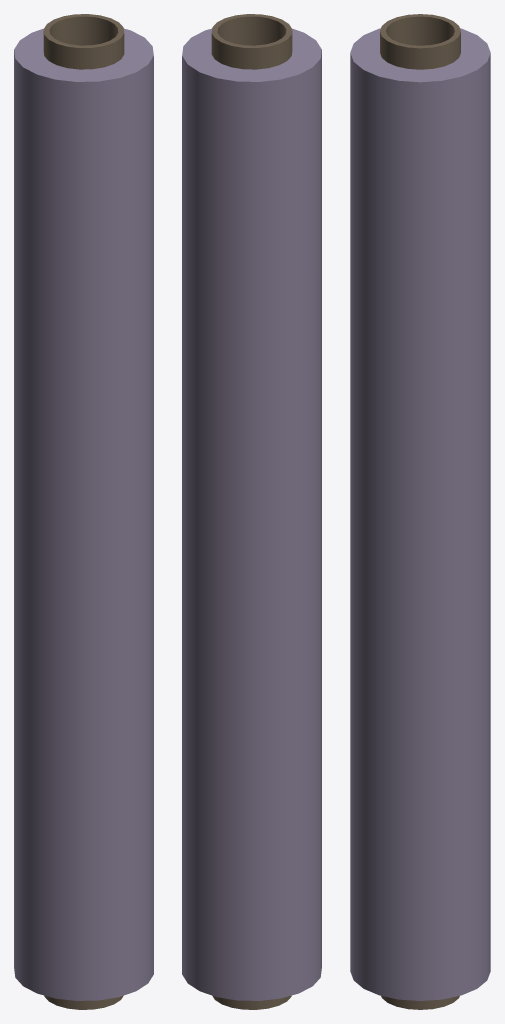
The model's file is RolPaars.fbx.
The picture shows the model from 3 angles, left to right: view 1: azimuth 30°, elevation 25°; view 2: azimuth 150°, elevation 25°; view 3: azimuth 270°, elevation 25°; orthographic projection.
Visible parts, largest first — view 1: textielrol3; view 2: textielrol3; view 3: textielrol3.
Part boxes in pixels (x1,y1,x2,y2): textielrol3: (14, 14, 153, 1009); textielrol3: (182, 14, 321, 1009); textielrol3: (350, 14, 490, 1009).
Bounding box in the file's own units: 0.2449 × 1.85 × 0.2449.
